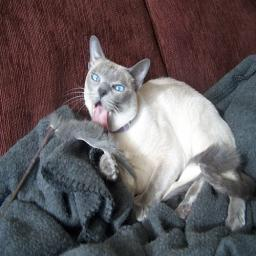catnose: (97, 86, 108, 100)
